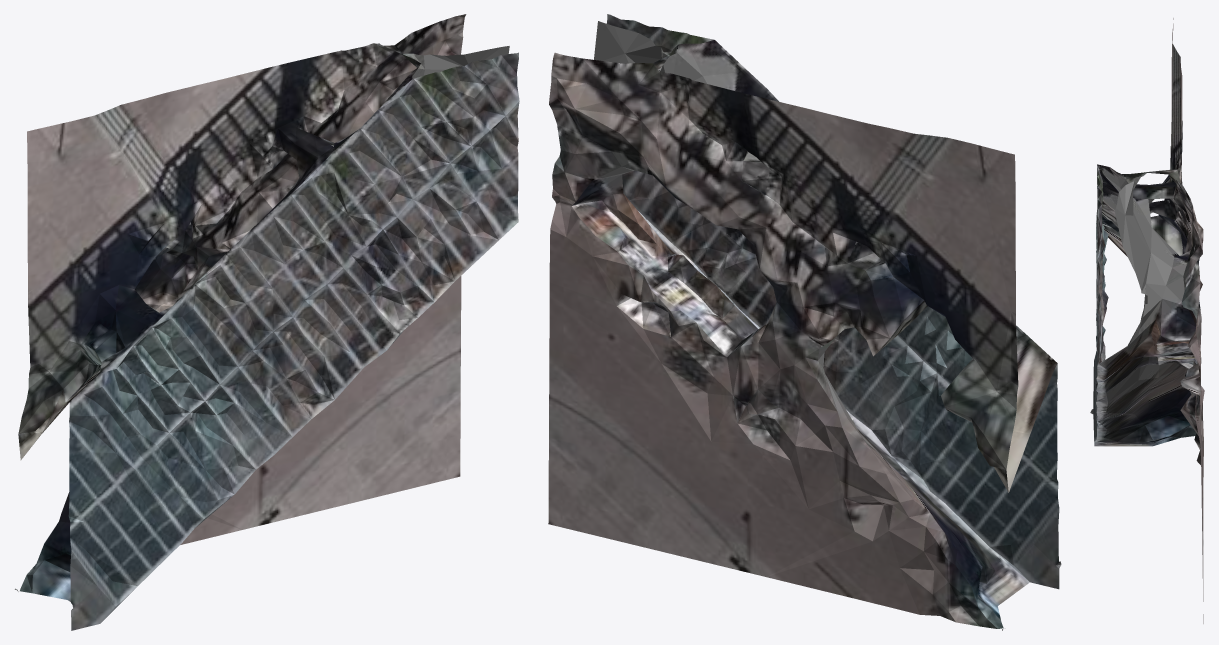
File: Tile_+032_+021_L19_000011.obj
The picture shows the model from 3 angles, left to right: view 1: azimuth 30°, elevation 25°; view 2: azimuth 150°, elevation 25°; view 3: azimuth 270°, elevation 25°; orthographic projection. The views are drawn at different scales.
Size of the model in its own units: 31.75 by 31.5 by 7.79.
1 material, 1 textured.
